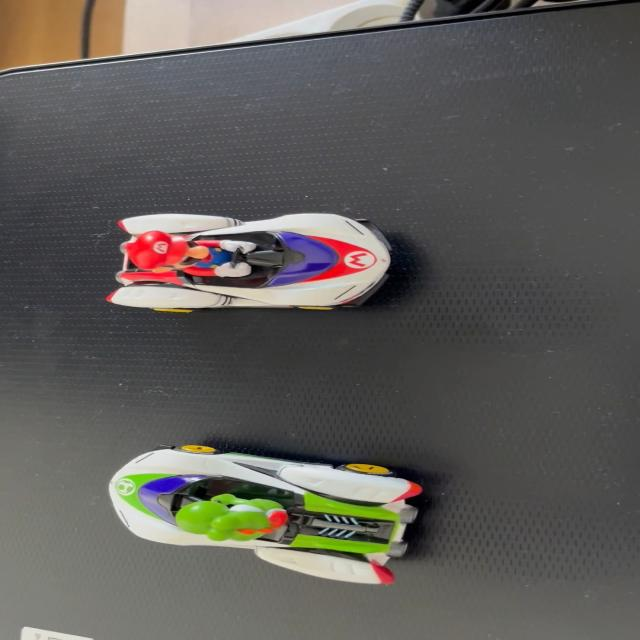mario: (92, 201, 392, 320)
yoshi: (76, 424, 473, 602)
